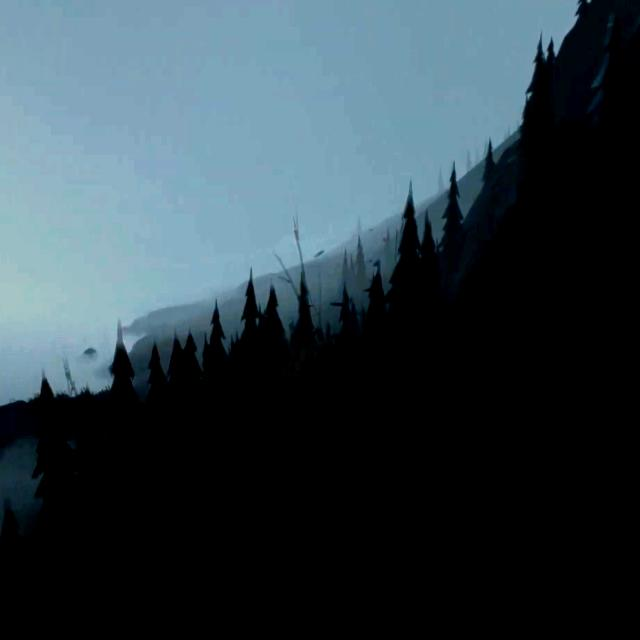blob: (274, 340, 365, 472)
